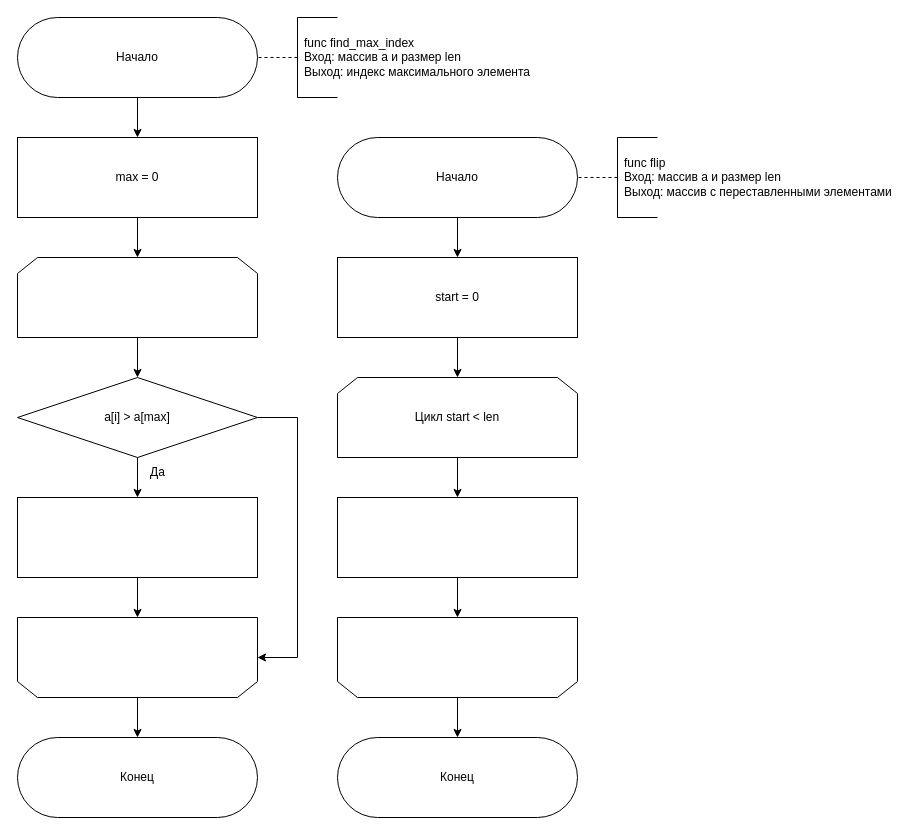
This 910x835 diagram has some shape labels left out. The shapes that lost their labels are listed below. From the top down, each one's centre as x and y in pixels, then its label:
At [137,297]: "Цикл i = 0; i < len".
At [137,537]: "max = i".
At [457,537]: "tmp = a[start] a[start] = a[i] a[i] = tmp".
At [137,657]: "i++".
At [457,657]: "start++ len--".
